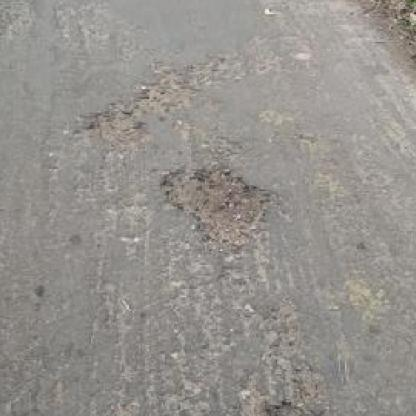pothole: (157, 157, 276, 249), (102, 83, 180, 137)
